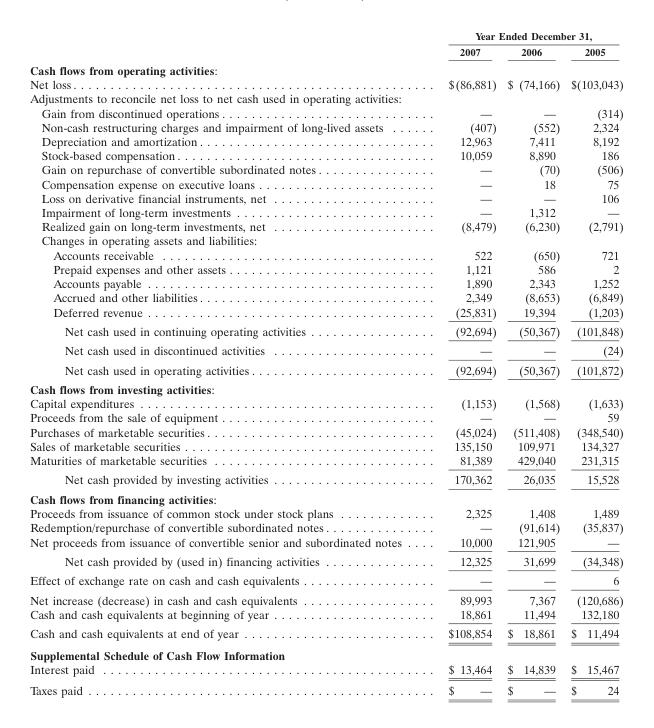table: (29, 29, 622, 697)
table column: (29, 29, 424, 697), (424, 29, 501, 697), (501, 29, 564, 697), (564, 29, 622, 697)
table column header: (29, 29, 622, 59)
table projected row header: (29, 643, 622, 661), (29, 59, 622, 76), (29, 379, 622, 396), (29, 489, 622, 505), (29, 91, 622, 105), (29, 233, 622, 247)
table row: (29, 359, 622, 379), (29, 469, 622, 489), (29, 623, 622, 643), (29, 321, 622, 340), (29, 340, 622, 359), (29, 551, 622, 570), (29, 570, 622, 589), (29, 643, 622, 661), (29, 661, 622, 679), (29, 679, 622, 697), (29, 59, 622, 76), (29, 304, 622, 321), (29, 379, 622, 396), (29, 452, 622, 469), (29, 534, 622, 551), (29, 589, 622, 606), (29, 606, 622, 623), (29, 43, 622, 59), (29, 489, 622, 505), (29, 76, 622, 91), (29, 147, 622, 162), (29, 204, 622, 219), (29, 275, 622, 290), (29, 505, 622, 520), (29, 29, 622, 43), (29, 91, 622, 105), (29, 105, 622, 119), (29, 119, 622, 133), (29, 133, 622, 147), (29, 162, 622, 176), (29, 176, 622, 190), (29, 190, 622, 204), (29, 219, 622, 233), (29, 233, 622, 247), (29, 247, 622, 261), (29, 261, 622, 275), (29, 290, 622, 304), (29, 396, 622, 410), (29, 410, 622, 424), (29, 424, 622, 438), (29, 438, 622, 452), (29, 520, 622, 534)
table spanning cell: (424, 29, 622, 43)
